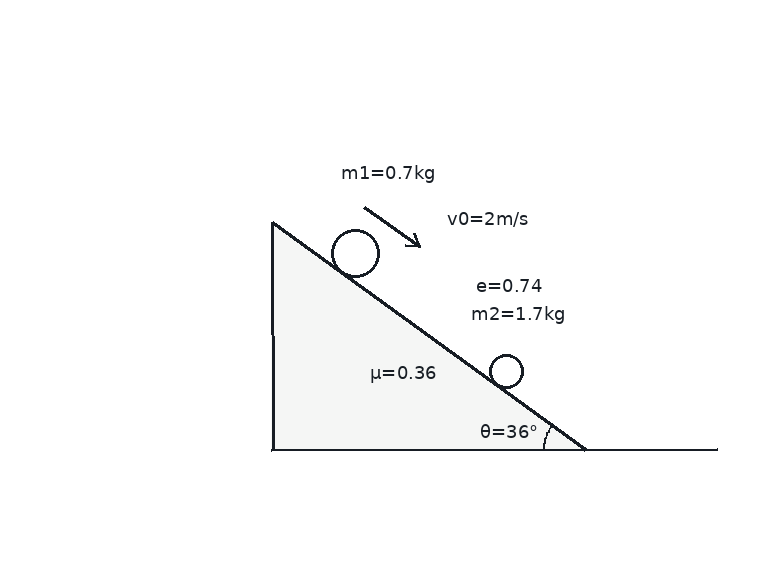ball: (329, 227, 381, 279), (487, 352, 525, 390)
ramp: (270, 220, 586, 451)
